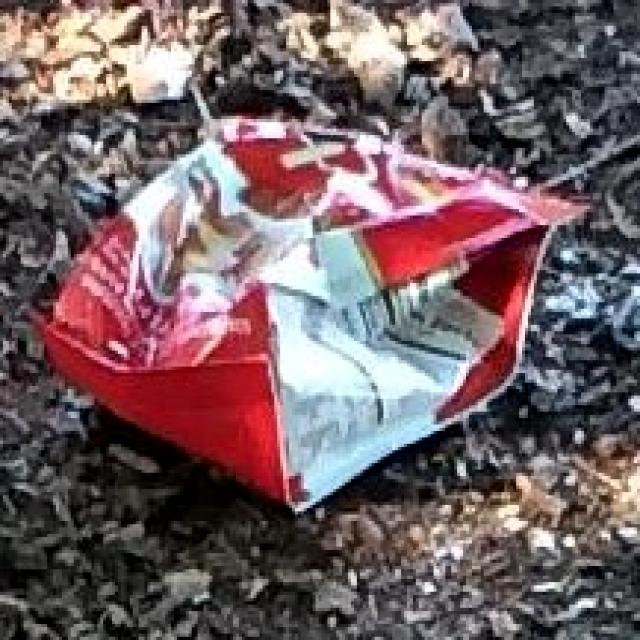Trash: (34, 107, 601, 539)
